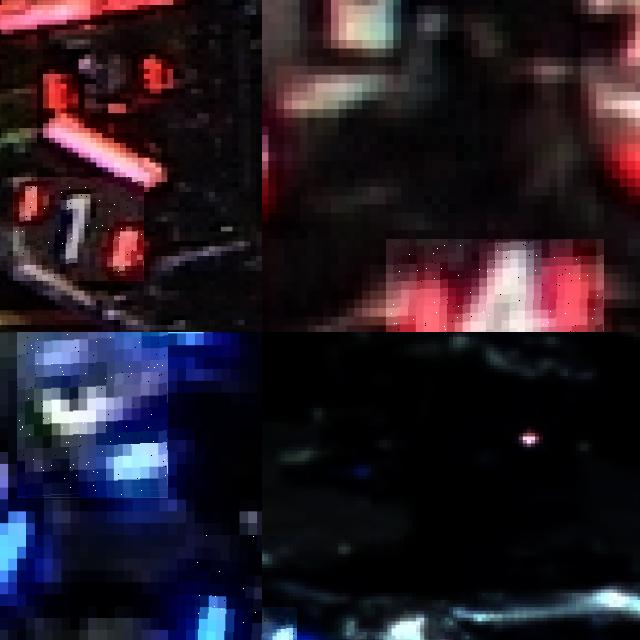B3: (17, 332, 168, 499), (195, 535, 262, 640), (0, 428, 34, 594)
R1: (13, 177, 144, 281)
R4: (385, 238, 604, 332)
